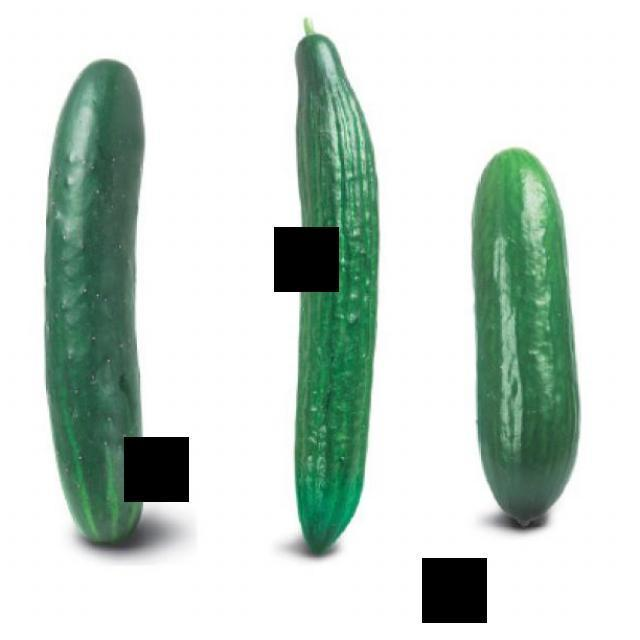cucumber: (42, 53, 154, 550), (286, 29, 382, 562), (465, 144, 583, 530)
